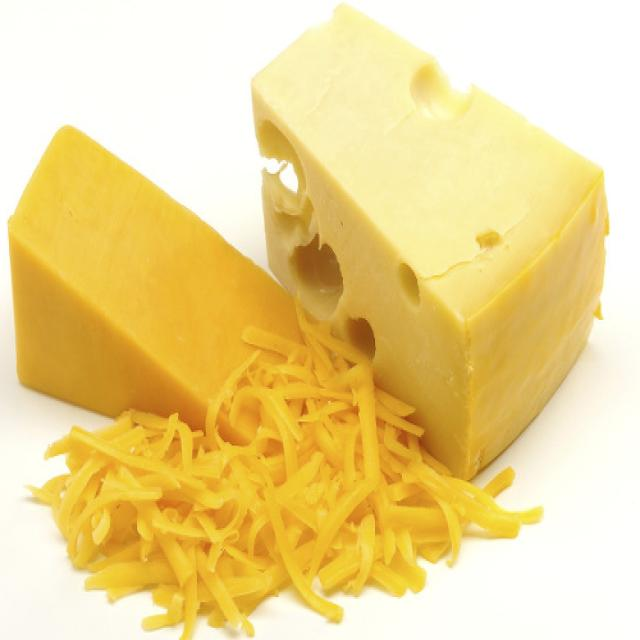cheese: (252, 5, 611, 479), (29, 308, 543, 639), (8, 126, 301, 429)
